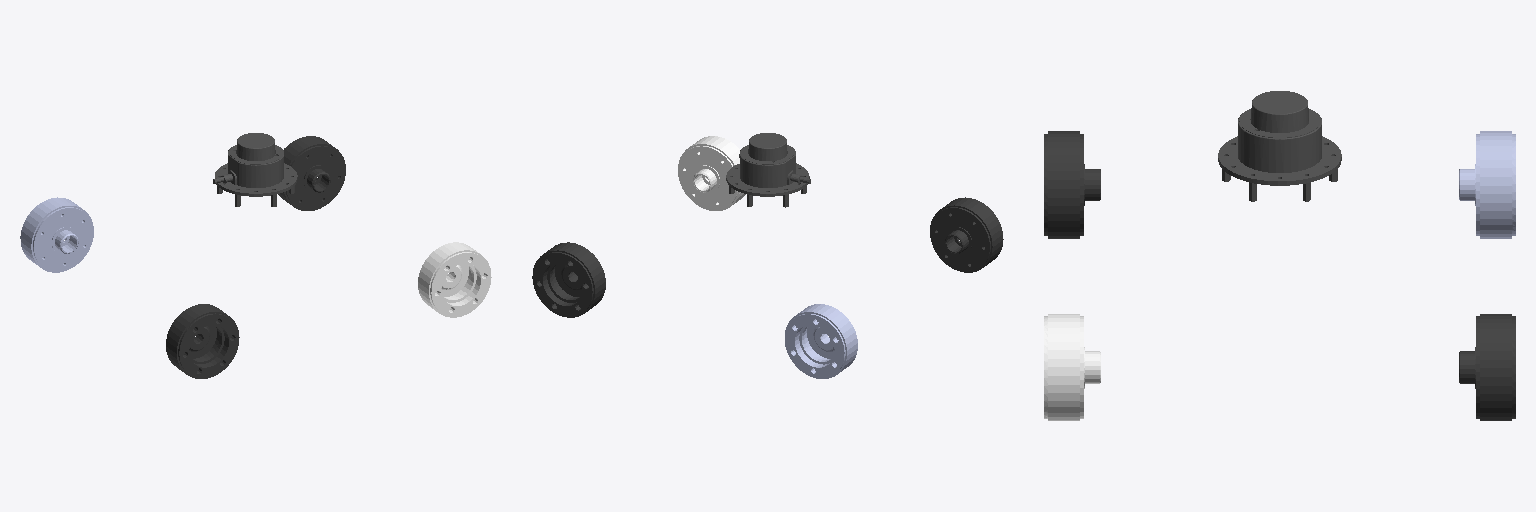
robot.urdf — robot_description:
<?xml version="1.0" encoding="utf-8"?>
<!-- This URDF was automatically created by SolidWorks to URDF Exporter! Originally created by Stephen Brawner (brawner@gmail.com) 
     Commit Version: 1.6.0-4-g7f85cfe  Build Version: 1.6.7995.38578
     For more information, please see http://wiki.ros.org/sw_urdf_exporter -->
<robot
  name="robot_description">

  <!-- Robot Footprint -->
  <link name="base_footprint"/>

  <joint name="base_joint" type="fixed">
    <parent link="base_footprint"/>
    <child link="base_link"/>
    <origin xyz="0.0 0.0 0.033" rpy="0 0 0"/>
  </joint>

  <!-- base link -->
  <link
    name="base_link">
    <inertial>
      <origin
        xyz="-0.00905791507473457 -0.000488795930540497 0.0640826076248514"
        rpy="0 0 0" />
      <mass
        value="3.02079030126272" />
      <inertia
        ixx="0.0047459102901528"
        ixy="3.51756586633145E-06"
        ixz="9.25187553131626E-07"
        iyy="0.00495134636228368"
        iyz="-1.11927483956347E-07"
        izz="0.00929793533778467" />
    </inertial>
    <visual>
      <origin
        xyz="0 0 0"
        rpy="0 0 0" />
      <geometry>
        <mesh
          filename="package://robot_description/meshes/base_link.STL" />
      </geometry>
      <material
        name="">
        <color
          rgba="1 1 1 1" />
      </material>
    </visual>
    <collision>
      <origin
        xyz="0 0 0"
        rpy="0 0 0" />
      <geometry>
        <mesh
          filename="package://robot_description/meshes/base_link.STL" />
      </geometry>
    </collision>
  </link>

  <!-- laser link -->
  <link
    name="laser">
    <inertial>
      <origin
        xyz="-3.28944182967072E-09 -2.79918769626876E-09 -0.034597418415799"
        rpy="0 0 0" />
      <mass
        value="0.0197577859576288" />
      <inertia
        ixx="4.82189534964696E-06"
        ixy="2.48436928325093E-14"
        ixz="2.38955057703625E-14"
        iyy="4.82189520756809E-06"
        iyz="2.28917153671191E-15"
        izz="9.36232732215207E-06" />
    </inertial>
    <visual>
      <origin
        xyz="0 0 0"
        rpy="0 0 0" />
      <geometry>
        <mesh
          filename="package://robot_description/meshes/laser_frame.STL" />
      </geometry>
      <material
        name="">
        <color
          rgba="0.376470588235294 0.376470588235294 0.376470588235294 1" />
      </material>
    </visual>
    <collision>
      <origin
        xyz="0 0 0"
        rpy="0 0 0" />
      <geometry>
        <mesh
          filename="package://robot_description/meshes/laser_frame.STL" />
      </geometry>
    </collision>
  </link>

  <!-- laser joint -->
  <joint
    name="laser_joint"
    type="fixed">
    <origin
      xyz="-0.000482541160108889 0 0.111874126705049"
      rpy="0 0 0" />
    <parent
      link="base_link" />
    <child
      link="laser" />
    <axis
      xyz="0 0 0" />
  </joint>

  <!-- LFs link -->
  <link
    name="LFs_Link">
    <inertial>
      <origin
        xyz="-3.43181859924213E-06 0.00109461595355642 -0.0424747271155292"
        rpy="0 0 0" />
      <mass
        value="0.114715980836134" />
      <inertia
        ixx="1.43428504844199E-05"
        ixy="1.07530266321773E-11"
        ixz="3.39986697862229E-12"
        iyy="2.96038470108407E-05"
        iyz="2.80051423962253E-10"
        izz="2.00828947865518E-05" />
    </inertial>
    <visual>
      <origin
        xyz="0 0 0"
        rpy="0 0 0" />
      <geometry>
        <mesh
          filename="package://robot_description/meshes/LFs_Link.STL" />
      </geometry>
      <material
        name="">
        <color
          rgba="1 0.949019607843137 0.898039215686275 1" />
      </material>
    </visual>
    <collision>
      <origin
        xyz="0 0 0"
        rpy="0 0 0" />
      <geometry>
        <mesh
          filename="package://robot_description/meshes/LFs_Link.STL" />
      </geometry>
    </collision>
  </link>

  <!-- LFs joint -->
  <joint
    name="LFs"
    type="continuous">
    <origin
      xyz="0.13238 0.13286 0.055124"
      rpy="0 0 0" />
    <parent
      link="base_link" />
    <child
      link="LFs_Link" />
    <axis
      xyz="0 0 1" />
  </joint>

  <!-- LFd link -->
  <link
    name="LFd_Link">
    <inertial>
      <origin
        xyz="-1.03712429144753E-06 -4.22896943690254E-05 -0.0180040579132936"
        rpy="0 0 0" />
      <mass
        value="0.0555886189628006" />
      <inertia
        ixx="2.17656627943887E-05"
        ixy="1.87563768432862E-16"
        ixz="8.87301353584558E-17"
        iyy="2.17656627947915E-05"
        iyz="1.05868514442875E-16"
        izz="3.98658756411664E-05" />
    </inertial>
    <visual>
      <origin
        xyz="0 0 0"
        rpy="0 0 0" />
      <geometry>
        <mesh
          filename="package://robot_description/meshes/LFd_Link.STL" />
      </geometry>
      <material
        name="">
        <color
          rgba="0.298039215686275 0.298039215686275 0.298039215686275 1" />
      </material>
    </visual>
    <collision>
      <origin
        xyz="0 0 0"
        rpy="0 0 0" />
      <geometry>
        <mesh
          filename="package://robot_description/meshes/LFd_Link.STL" />
      </geometry>
    </collision>
  </link>

  <!-- LFd joint -->
  <joint
    name="LFd"
    type="continuous">
    <origin
      xyz="0 -0.0192000070641395 -0.0549577103053597"
      rpy="1.5707963267949 0 0" />
    <parent
      link="LFs_Link" />
    <child
      link="LFd_Link" />
    <axis
      xyz="0 0 -1" />
  </joint>

  <!-- LRs link -->
  <link
    name="LRs_Link">
    <inertial>
      <origin
        xyz="-3.45773536702954E-06 0.00109460811387849 -0.0424747271155197"
        rpy="0 0 0" />
      <mass
        value="0.114715980835521" />
      <inertia
        ixx="1.43428504843719E-05"
        ixy="1.07530264428732E-11"
        ixz="3.39986454052669E-12"
        iyy="2.96038470107929E-05"
        iyz="2.80051427479846E-10"
        izz="2.00828947865514E-05" />
    </inertial>
    <visual>
      <origin
        xyz="0 0 0"
        rpy="0 0 0" />
      <geometry>
        <mesh
          filename="package://robot_description/meshes/LRs_Link.STL" />
      </geometry>
      <material
        name="">
        <color
          rgba="1 1 1 1" />
      </material>
    </visual>
    <collision>
      <origin
        xyz="0 0 0"
        rpy="0 0 0" />
      <geometry>
        <mesh
          filename="package://robot_description/meshes/LRs_Link.STL" />
      </geometry>
    </collision>
  </link>

  <!-- LRs joint -->
  <joint
    name="LRs"
    type="continuous">
    <origin
      xyz="-0.13335 0.13286 0.055124"
      rpy="0 0 0" />
    <parent
      link="base_link" />
    <child
      link="LRs_Link" />
    <axis
      xyz="0 0 1" />
  </joint>

  <!-- LRd link -->
  <link
    name="LRd_Link">
    <inertial>
      <origin
        xyz="-1.05702918615225E-06 -4.22896946395625E-05 -0.0180040579107741"
        rpy="0 0 0" />
      <mass
        value="0.0555886189628006" />
      <inertia
        ixx="2.17656627948538E-05"
        ixy="-7.90717223889219E-17"
        ixz="9.89661937500372E-17"
        iyy="2.17656627943267E-05"
        iyz="-8.71922434634148E-18"
        izz="3.98658756411665E-05" />
    </inertial>
    <visual>
      <origin
        xyz="0 0 0"
        rpy="0 0 0" />
      <geometry>
        <mesh
          filename="package://robot_description/meshes/LRd_Link.STL" />
      </geometry>
      <material
        name="">
        <color
          rgba="0.796078431372549 0.823529411764706 0.937254901960784 1" />
      </material>
    </visual>
    <collision>
      <origin
        xyz="0 0 0"
        rpy="0 0 0" />
      <geometry>
        <mesh
          filename="package://robot_description/meshes/LRd_Link.STL" />
      </geometry>
    </collision>
  </link>

  <!-- LRd joint -->
  <joint
    name="LRd"
    type="continuous">
    <origin
      xyz="0 -0.0192000149011577 -0.0549577103053588"
      rpy="1.5707963267949 0 0" />
    <parent
      link="LRs_Link" />
    <child
      link="LRd_Link" />
    <axis
      xyz="0 0 -1" />
  </joint>

  <!-- RFs link -->
  <link
    name="RFs_Link">
    <inertial>
      <origin
        xyz="3.44283421241376E-06 -0.00109462301503799 -0.0424747271155221"
        rpy="0 0 0" />
      <mass
        value="0.114715980835538" />
      <inertia
        ixx="1.43428504843731E-05"
        ixy="1.07530264536241E-11"
        ixz="-3.39986462854254E-12"
        iyy="2.96038470107942E-05"
        iyz="-2.80051427386621E-10"
        izz="2.00828947865514E-05" />
    </inertial>
    <visual>
      <origin
        xyz="0 0 0"
        rpy="0 0 0" />
      <geometry>
        <mesh
          filename="package://robot_description/meshes/RFs_Link.STL" />
      </geometry>
      <material
        name="">
        <color
          rgba="1 1 1 1" />
      </material>
    </visual>
    <collision>
      <origin
        xyz="0 0 0"
        rpy="0 0 0" />
      <geometry>
        <mesh
          filename="package://robot_description/meshes/RFs_Link.STL" />
      </geometry>
    </collision>
  </link>

  <!-- RFs joint -->
  <joint
    name="RFs"
    type="continuous">
    <origin
      xyz="0.13238 -0.13286 0.055124"
      rpy="0 0 0" />
    <parent
      link="base_link" />
    <child
      link="RFs_Link" />
    <axis
      xyz="0 0 1" />
  </joint>

  <!-- RFd link -->
  <link
    name="RFd_Link">
    <inertial>
      <origin
        xyz="1.05702960626064E-06 -4.22896943098171E-05 0.0180040579107738"
        rpy="0 0 0" />
      <mass
        value="0.0555886189628007" />
      <inertia
        ixx="2.17656627945638E-05"
        ixy="2.74003517078324E-16"
        ixz="-7.01209695758619E-17"
        iyy="2.17656627946164E-05"
        iyz="-1.23646991662953E-16"
        izz="3.98658756411663E-05" />
    </inertial>
    <visual>
      <origin
        xyz="0 0 0"
        rpy="0 0 0" />
      <geometry>
        <mesh
          filename="package://robot_description/meshes/RFd_Link.STL" />
      </geometry>
      <material
        name="">
        <color
          rgba="1 1 1 1" />
      </material>
    </visual>
    <collision>
      <origin
        xyz="0 0 0"
        rpy="0 0 0" />
      <geometry>
        <mesh
          filename="package://robot_description/meshes/RFd_Link.STL" />
      </geometry>
    </collision>
  </link>

  <!-- RFd joint -->
  <joint
    name="RFd"
    type="continuous">
    <origin
      xyz="0 0.0192000000000008 -0.0549577103053633"
      rpy="1.5707963267949 0 0" />
    <parent
      link="RFs_Link" />
    <child
      link="RFd_Link" />
    <axis
      xyz="0 0 1" />
  </joint>

  <!-- RRs_Link -->
  <link
    name="RRs_Link">
    <inertial>
      <origin
        xyz="3.56441174925726E-06 -0.00113327767047011 -0.0438441812611075"
        rpy="0 0 0" />
      <mass
        value="0.110803165091198" />
      <inertia
        ixx="1.37587466407648E-05"
        ixy="1.07530264549324E-11"
        ixz="-3.39986463165107E-12"
        iyy="2.89883861963043E-05"
        iyz="-2.80051427336613E-10"
        izz="1.89090821817843E-05" />
    </inertial>
    <visual>
      <origin
        xyz="0 0 0"
        rpy="0 0 0" />
      <geometry>
        <mesh
          filename="package://robot_description/meshes/RRs_Link.STL" />
      </geometry>
      <material
        name="">
        <color
          rgba="1 1 1 1" />
      </material>
    </visual>
    <collision>
      <origin
        xyz="0 0 0"
        rpy="0 0 0" />
      <geometry>
        <mesh
          filename="package://robot_description/meshes/RRs_Link.STL" />
      </geometry>
    </collision>
  </link>

  <!-- RRs joint -->
  <joint
    name="RRs"
    type="continuous">
    <origin
      xyz="-0.133347475742118 -0.132864934582008 0.0551241267050491"
      rpy="0 0 0" />
    <parent
      link="base_link" />
    <child
      link="RRs_Link" />
    <axis
      xyz="0 0 1" />
  </joint>

  <!-- RRd_Link -->
  <link
    name="RRd_Link">
    <inertial>
      <origin
        xyz="1.05702937763796E-06 -4.22896944295686E-05 0.0180040579107738"
        rpy="0 0 0" />
      <mass
        value="0.0555886189628006" />
      <inertia
        ixx="2.17656627943621E-05"
        ixy="-1.53737084532589E-16"
        ixz="2.70310359630393E-17"
        iyy="2.17656627948185E-05"
        iyz="-8.95623799269351E-17"
        izz="3.98658756411666E-05" />
    </inertial>
    <visual>
      <origin
        xyz="0 0 0"
        rpy="0 0 0" />
      <geometry>
        <mesh
          filename="package://robot_description/meshes/RRd_Link.STL" />
      </geometry>
      <material
        name="">
        <color
          rgba="0.298039215686275 0.298039215686275 0.298039215686275 1" />
      </material>
    </visual>
    <collision>
      <origin
        xyz="0 0 0"
        rpy="0 0 0" />
      <geometry>
        <mesh
          filename="package://robot_description/meshes/RRd_Link.STL" />
      </geometry>
    </collision>
  </link>

  <!-- RRd joint -->
  <joint
    name="RRd"
    type="continuous">
    <origin
      xyz="0 0.0192000000000007 -0.0549577103053587"
      rpy="1.5707963267949 0 0" />
    <parent
      link="RRs_Link" />
    <child
      link="RRd_Link" />
    <axis
      xyz="0 0 1" />
  </joint>
</robot>

--- Facts derived from the render (not from the file) ---
Views: 3 orthographic renders of the robot side by side, from view 1: azimuth 30°, elevation 25°; view 2: azimuth 150°, elevation 25°; view 3: azimuth 270°, elevation 25°.
Model robot_description with 11 links and 10 joints (8 continuous, 2 fixed), rooted at base_footprint, posed every joint at zero.
Links seen in each view (by area): view 1: RRd_Link, RFd_Link, LRd_Link, laser, LFd_Link; view 2: RRd_Link, LFd_Link, LRd_Link, laser, RFd_Link; view 3: laser, LRd_Link, RRd_Link, LFd_Link, RFd_Link.
Link boxes in pixels (x1,y1,x2,y2): RRd_Link: (166, 304, 239, 378); RFd_Link: (418, 242, 491, 317); LRd_Link: (20, 197, 93, 272); laser: (213, 133, 297, 206); LFd_Link: (278, 136, 345, 210); RRd_Link: (930, 197, 1003, 272); LFd_Link: (532, 242, 605, 317); LRd_Link: (785, 304, 857, 378); laser: (726, 133, 810, 207); RFd_Link: (678, 136, 745, 210); laser: (1218, 91, 1341, 201); LRd_Link: (1459, 131, 1515, 238); RRd_Link: (1044, 131, 1100, 238); LFd_Link: (1459, 314, 1515, 420); RFd_Link: (1044, 314, 1100, 420).
Bounding box of the posed robot: 0.3319 × 0.2895 × 0.151 m (x, y, z).
Meshes: 10 distinct files referenced, 5 mesh visuals loaded (5 binary STL); not drawn: 5 (reference not matched to a file when rendering).
